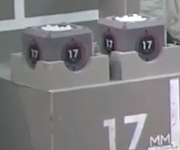box: (23, 22, 97, 72), (97, 12, 166, 61)
